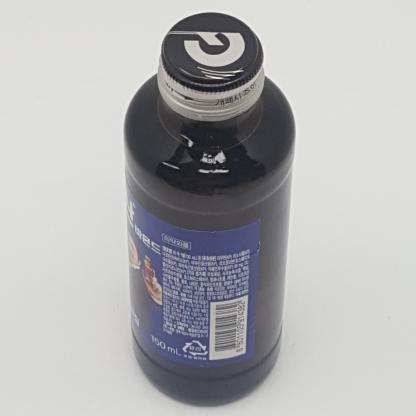---------------150ML: (123, 12, 295, 403)
